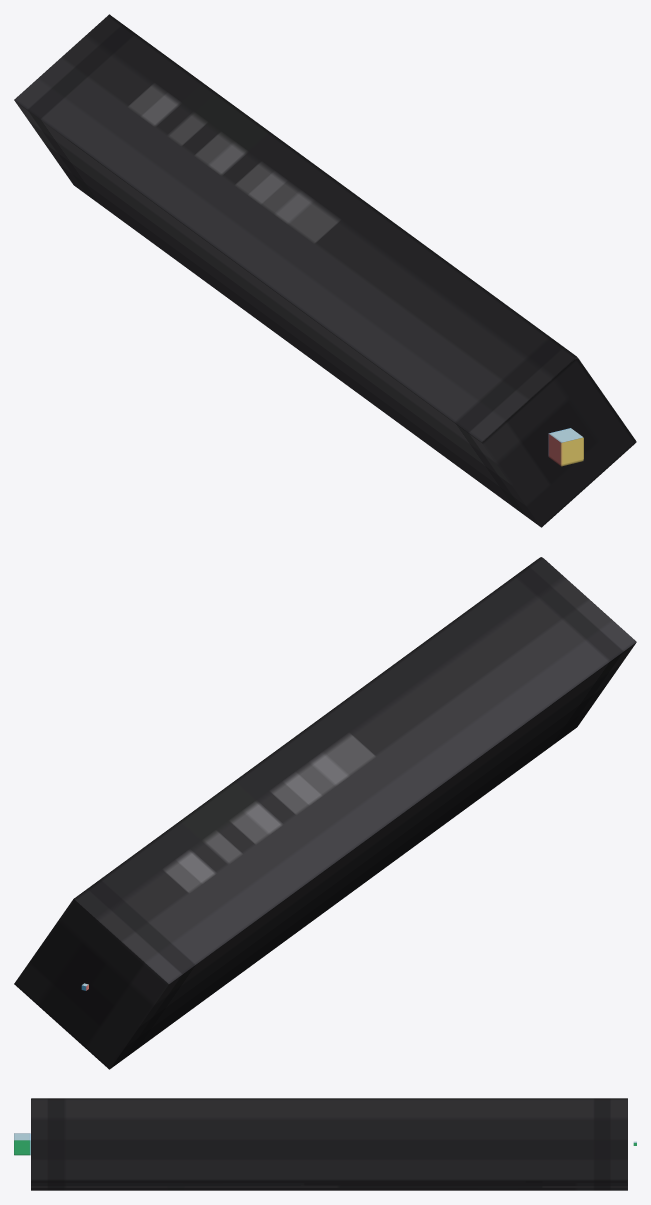
The model's file is rf_suppressor.fbx.
The picture shows the model from 3 angles, top to bottom: view 1: azimuth 30°, elevation 25°; view 2: azimuth 150°, elevation 25°; view 3: azimuth 270°, elevation 25°; orthographic projection. The views are drawn at different scales.
Parts seen in each view (by area): view 1: gun, _ca_suppressor; view 2: gun; view 3: gun, _ca_suppressor.
Boxes of the visible parts, x1,y1,x2,y2 form: gun: (14, 14, 636, 527); _ca_suppressor: (548, 428, 583, 466); gun: (14, 557, 636, 1069); gun: (31, 1098, 627, 1190); _ca_suppressor: (14, 1133, 30, 1155).
Bounding box in the file's own units: 43.06 × 43.06 × 235.
